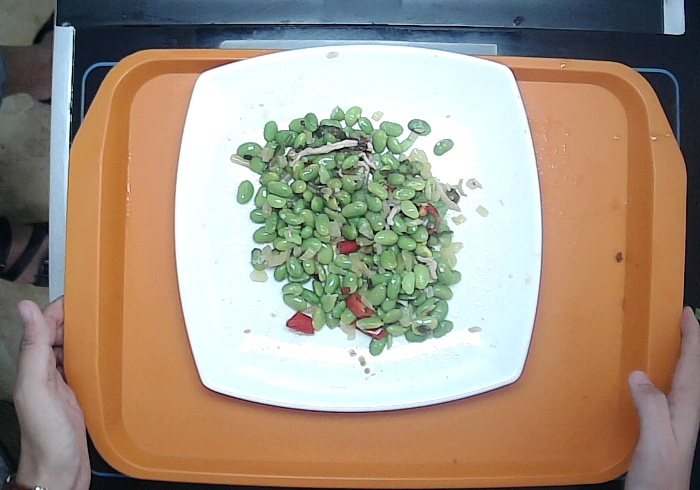ZNLD-Bai_Fang_Pan: (157, 42, 542, 416)
